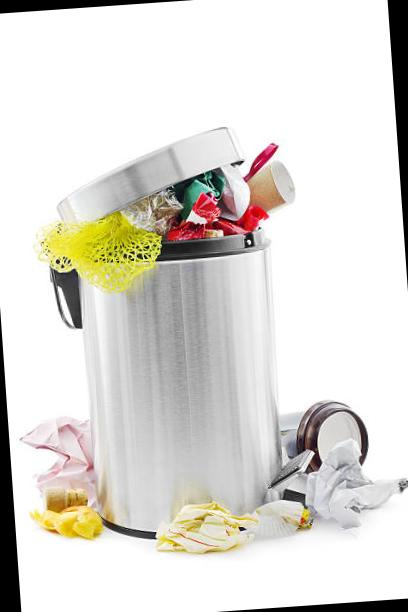trash: (19, 188, 187, 300), (269, 378, 386, 496), (186, 146, 280, 256), (266, 447, 370, 534), (142, 182, 244, 266), (160, 494, 260, 570), (231, 488, 320, 554), (31, 412, 91, 509), (335, 449, 408, 522), (240, 140, 298, 218), (38, 492, 110, 548)
trash_can_overflow: (0, 105, 408, 610)
